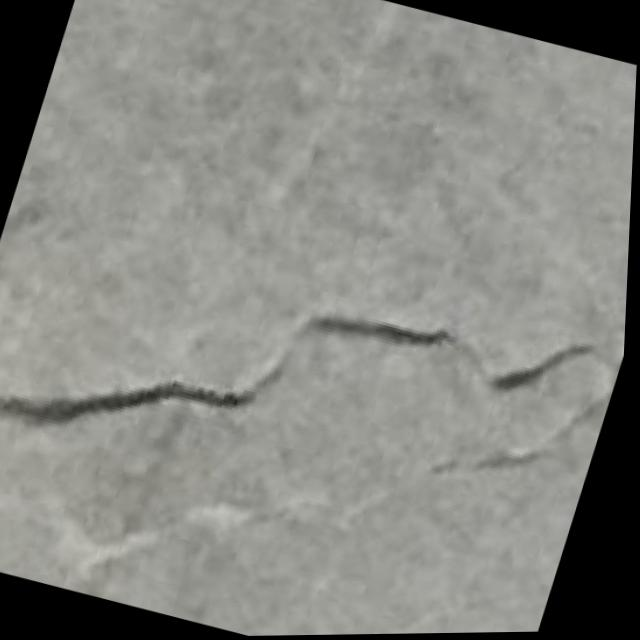Crack: (0, 156, 634, 583)
